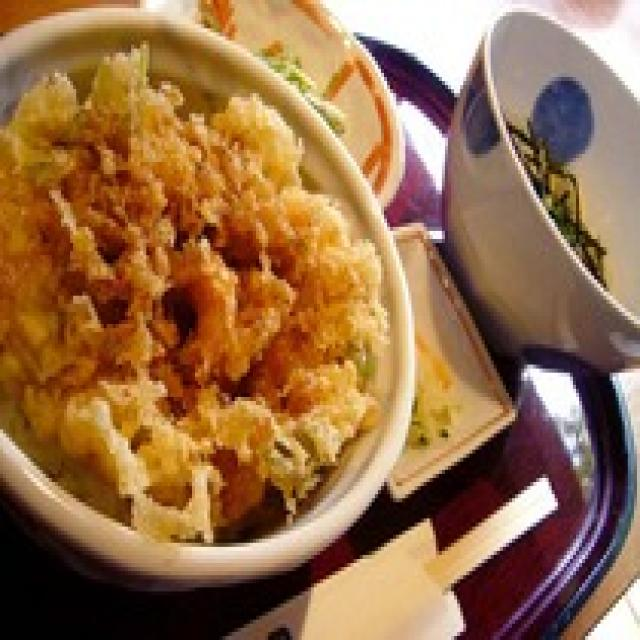熟制海鲜: (0, 0, 420, 595)
